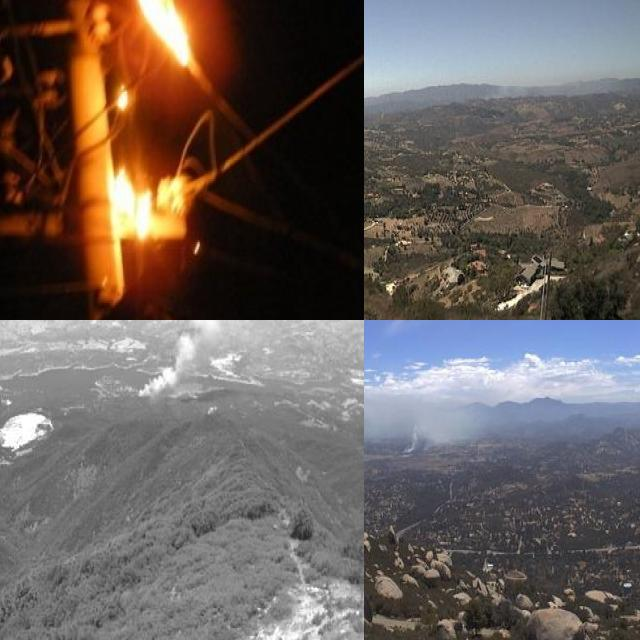fire: (92, 167, 195, 242), (128, 0, 204, 72)
smoke: (128, 320, 260, 399), (364, 381, 490, 455), (479, 73, 548, 102)
